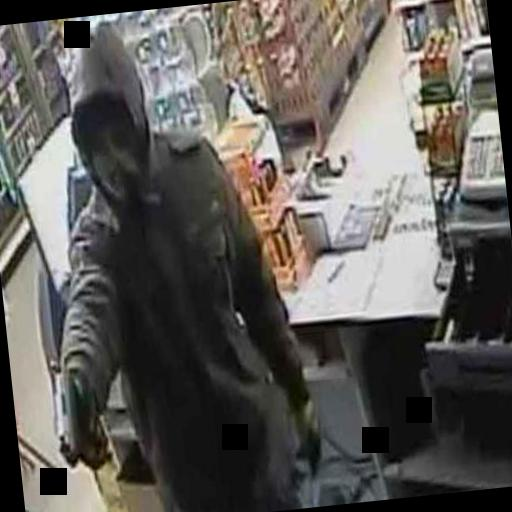Handgun: (44, 366, 104, 466)
